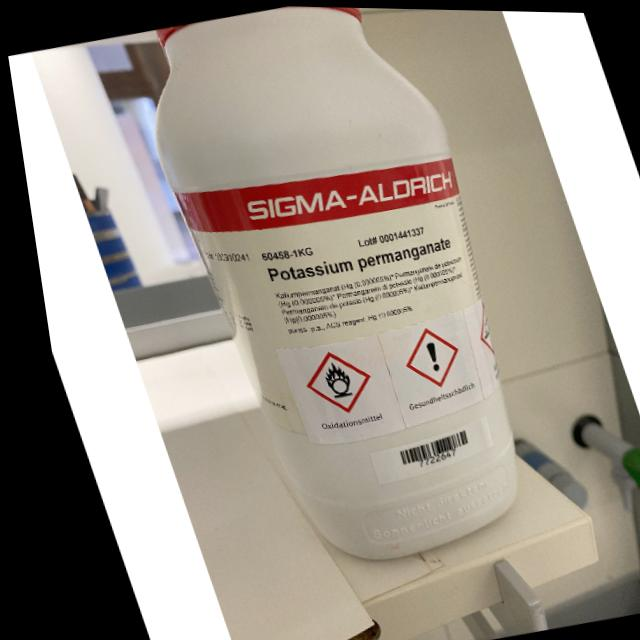health-ozone layer hazard: (412, 340, 435, 373)
oxidising: (305, 358, 347, 398)
